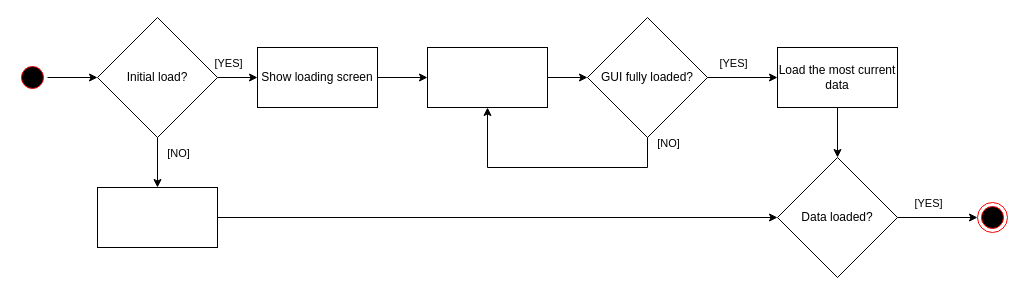
Some shapes in this 1025 by 295 pixel diagram are drawn without their labels. Each missing label, with the centre of its shape:
"Load default digital twin GUI view" goes at point (487, 77).
"Load requested data" goes at point (157, 217).
